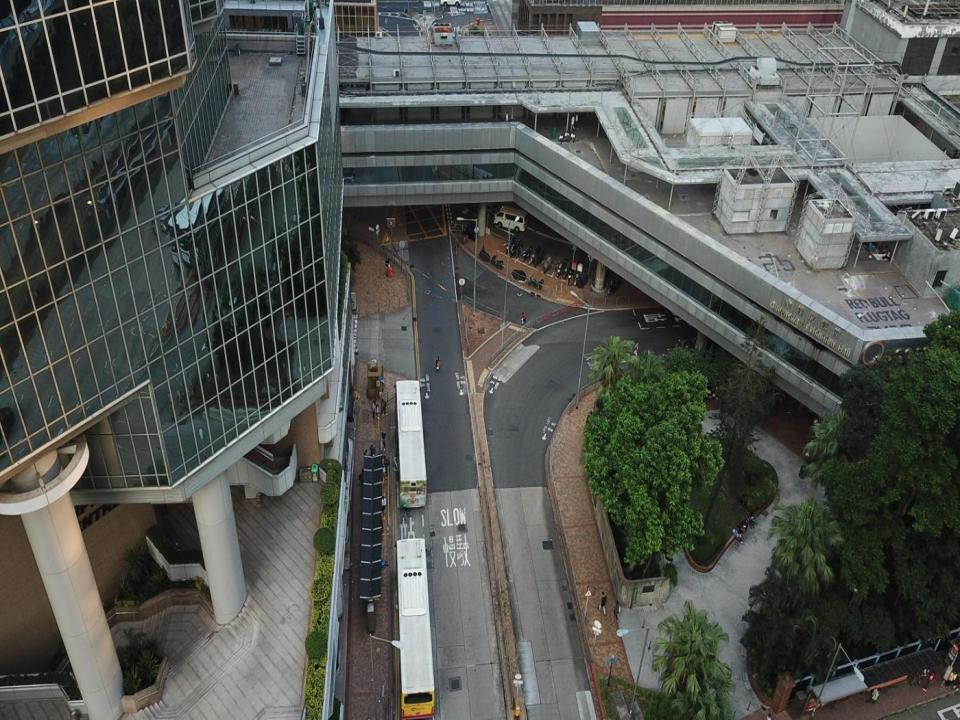bus: (390, 536, 444, 719), (393, 378, 428, 510)
van: (492, 206, 528, 233)
